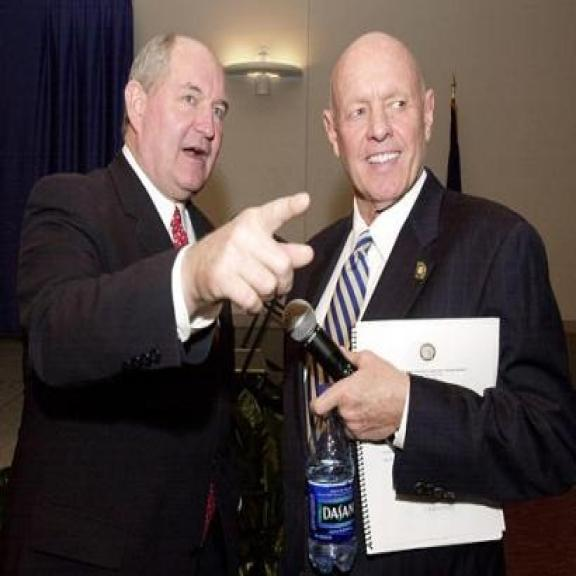face: (123, 35, 229, 208), (318, 57, 439, 204)
